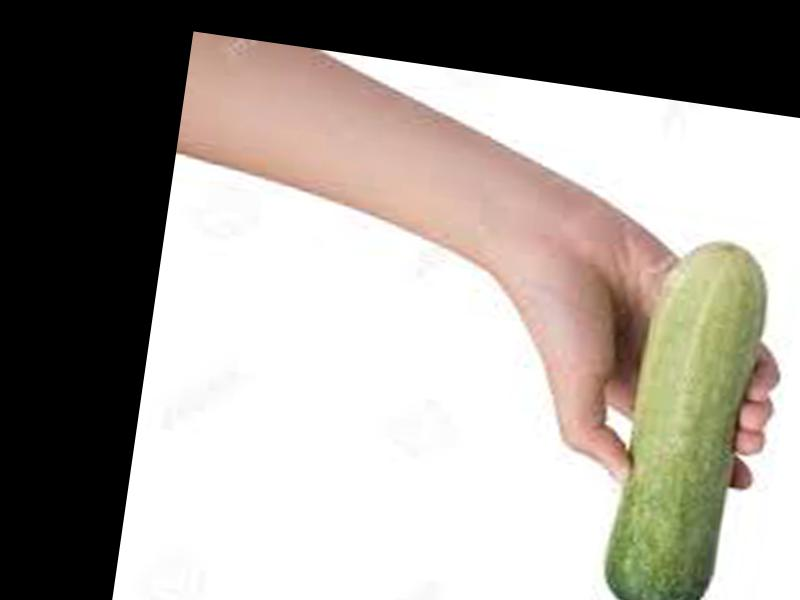Cucumber: (591, 228, 770, 600)
